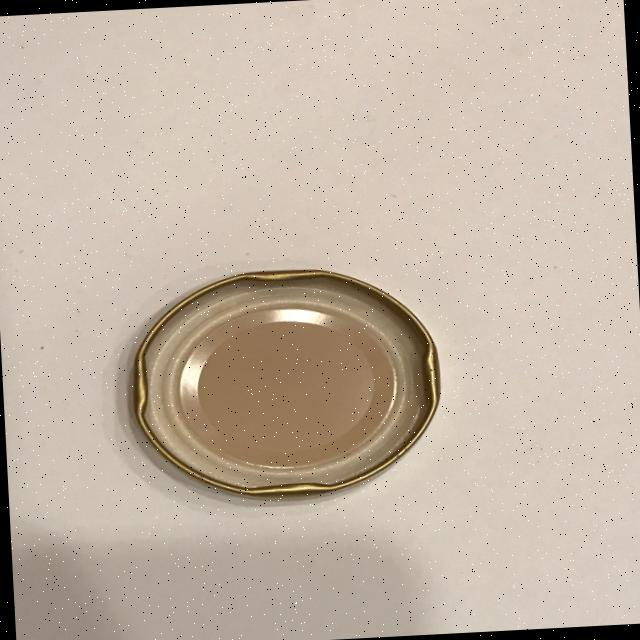metal: (126, 261, 448, 508)
